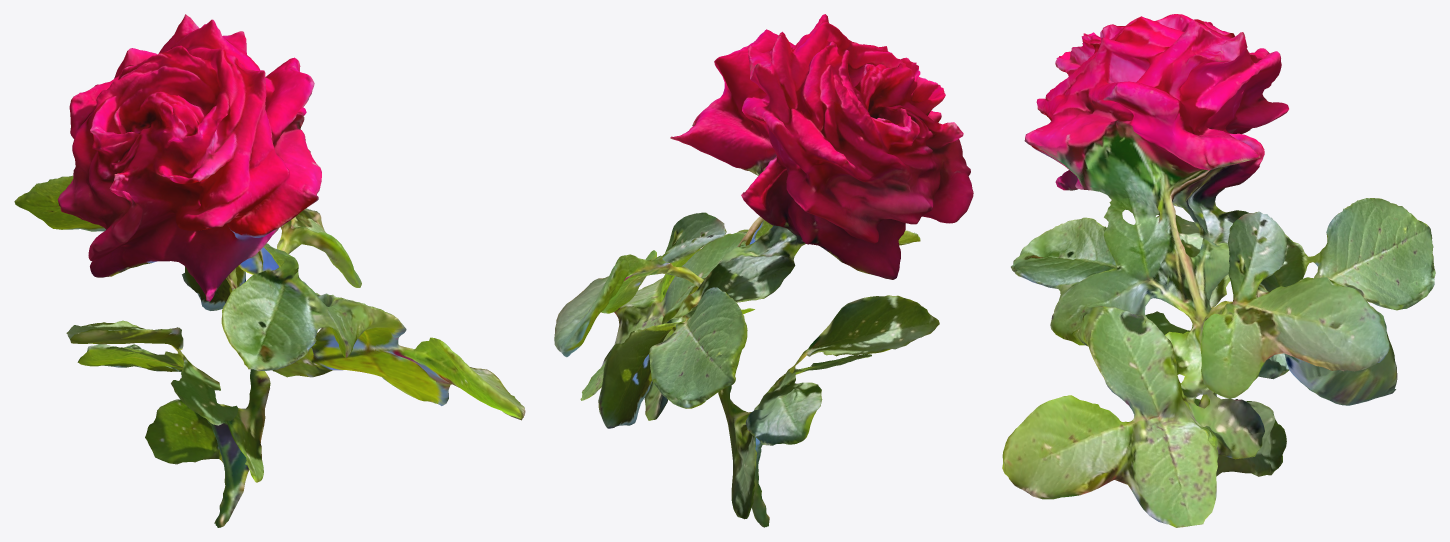
Rendered from redrose.glb.
3 renders of one model, left to right at view 1: azimuth 30°, elevation 25°; view 2: azimuth 150°, elevation 25°; view 3: azimuth 270°, elevation 25°, orthographic. The views are drawn at different scales.
Parts seen in each view (by area): view 1: Object_4; view 2: Object_4; view 3: Object_4.
Part boxes in pixels (x1,y1,x2,y2): Object_4: [14, 14, 525, 527]; Object_4: [554, 14, 973, 527]; Object_4: [1002, 14, 1435, 527].
Bounding box in the file's own units: 0.1347 × 0.1682 × 0.1351.
Materials: 1 (1 with a texture image).
